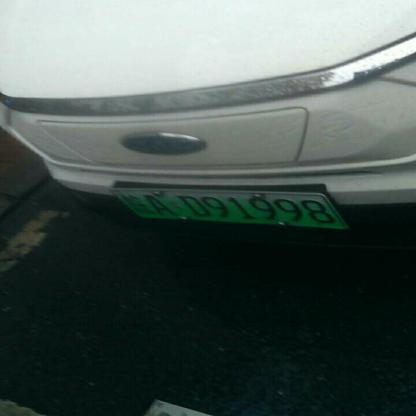lp: (112, 189, 346, 227)
